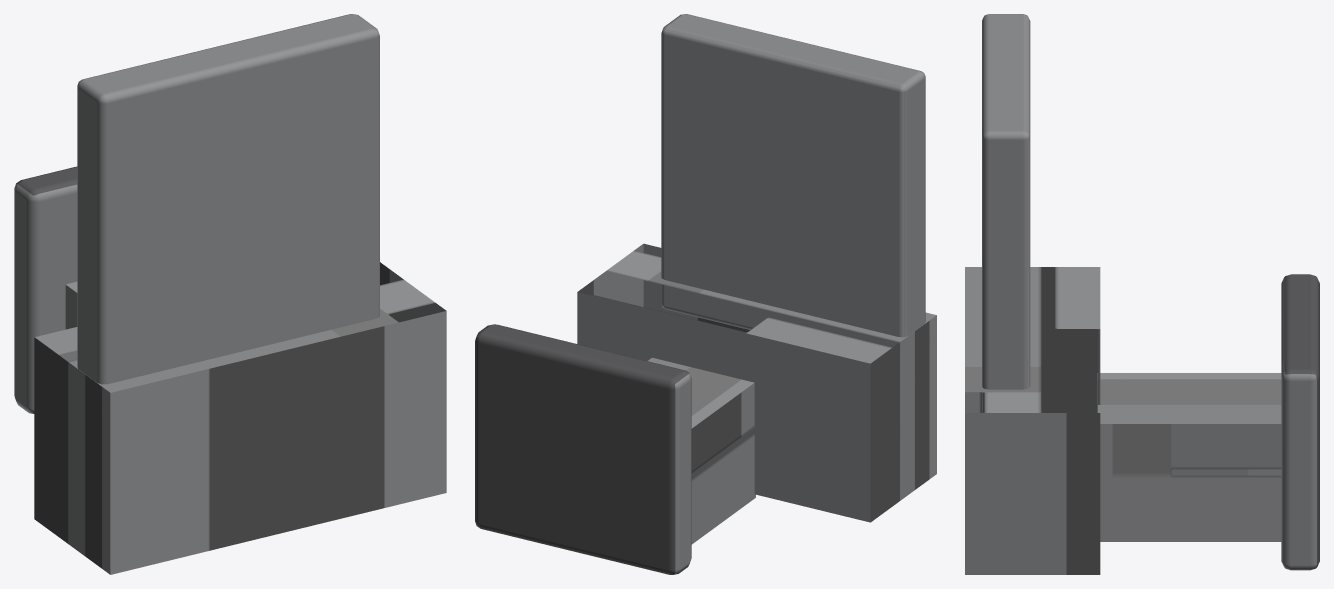
3 views of the same model, side by side, from view 1: azimuth 30°, elevation 25°; view 2: azimuth 150°, elevation 25°; view 3: azimuth 270°, elevation 25° (orthographic). The views are drawn at different scales.
Bounding box in the file's own units: 0.715 × 0.965 × 0.735.
